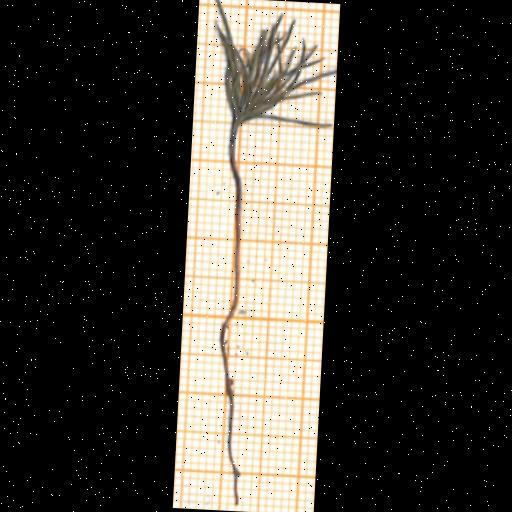flowerPinus: (214, 0, 335, 128)
rootPinus: (218, 317, 240, 506)
stemPinus: (230, 142, 242, 318)
